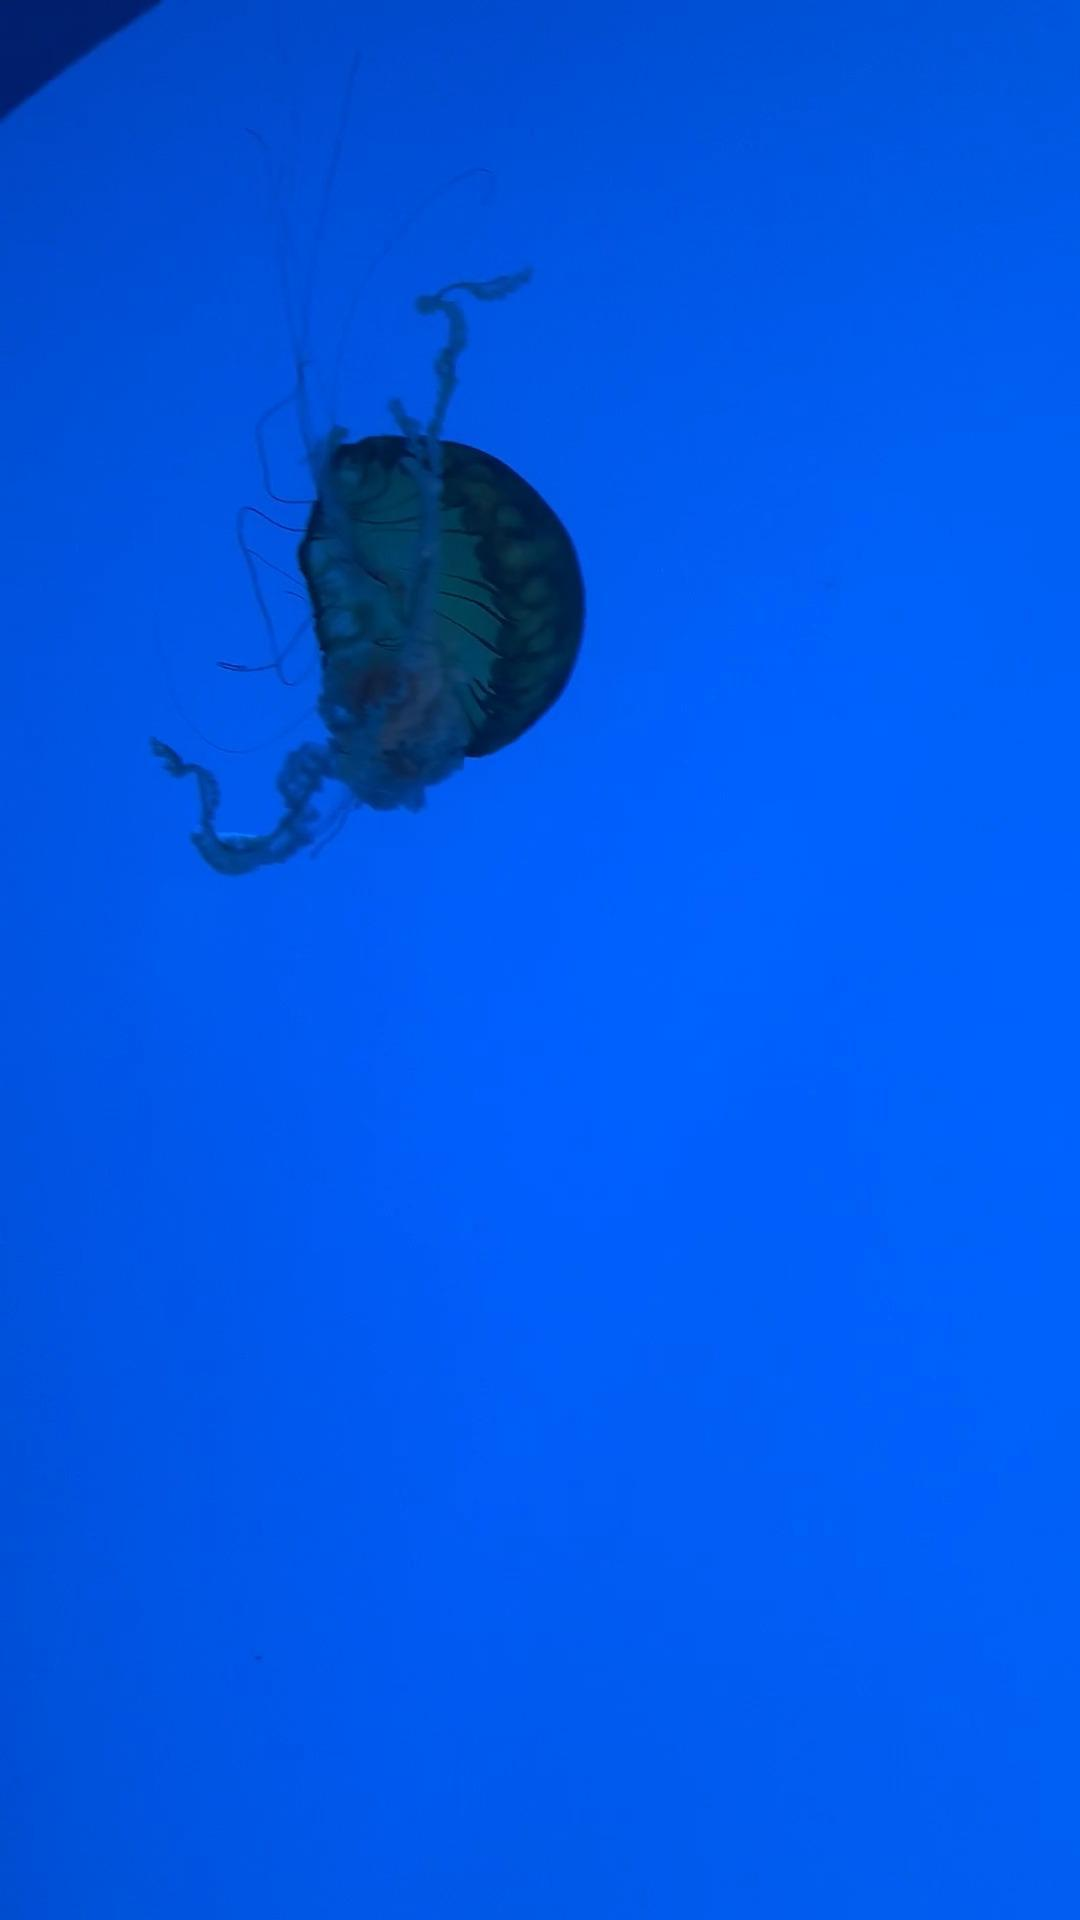jellyfish: (301, 425, 589, 811)
